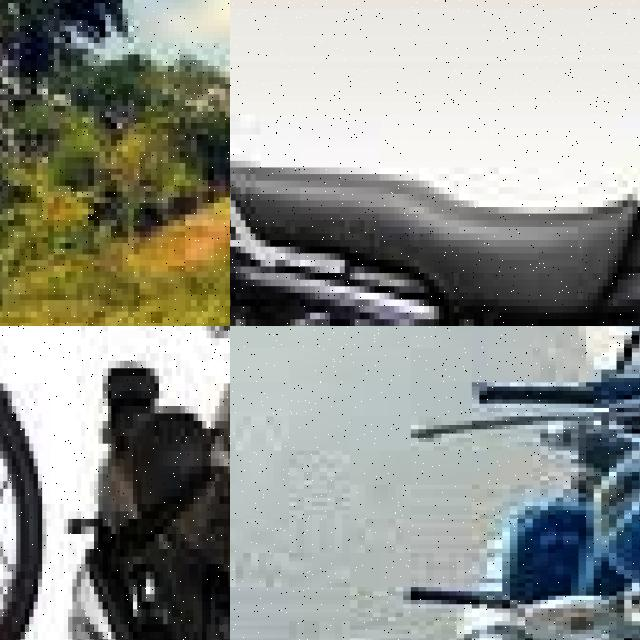bike: (230, 0, 640, 326), (373, 326, 640, 640), (76, 326, 230, 640), (0, 326, 51, 640)
